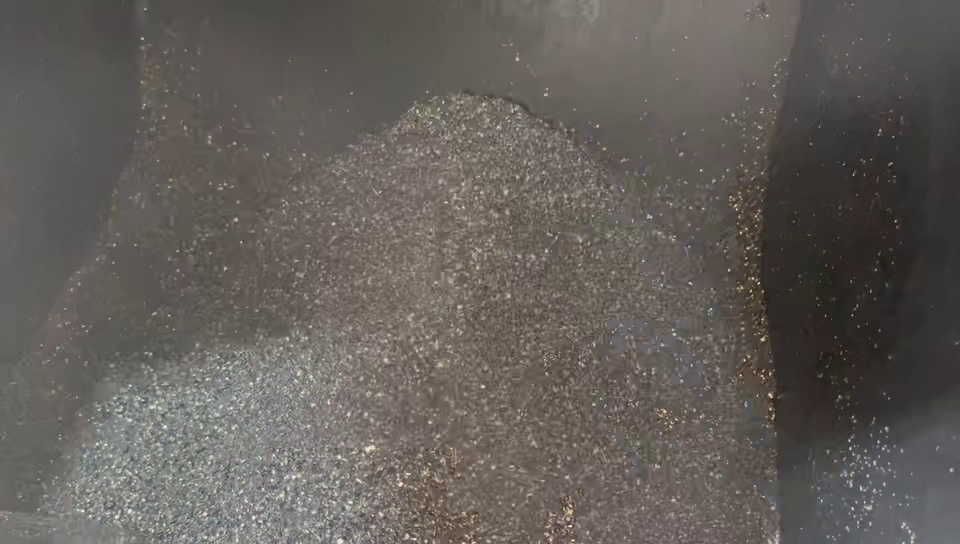iron_scrap: (21, 314, 775, 537), (247, 166, 757, 310), (143, 98, 241, 312), (361, 111, 575, 162)
